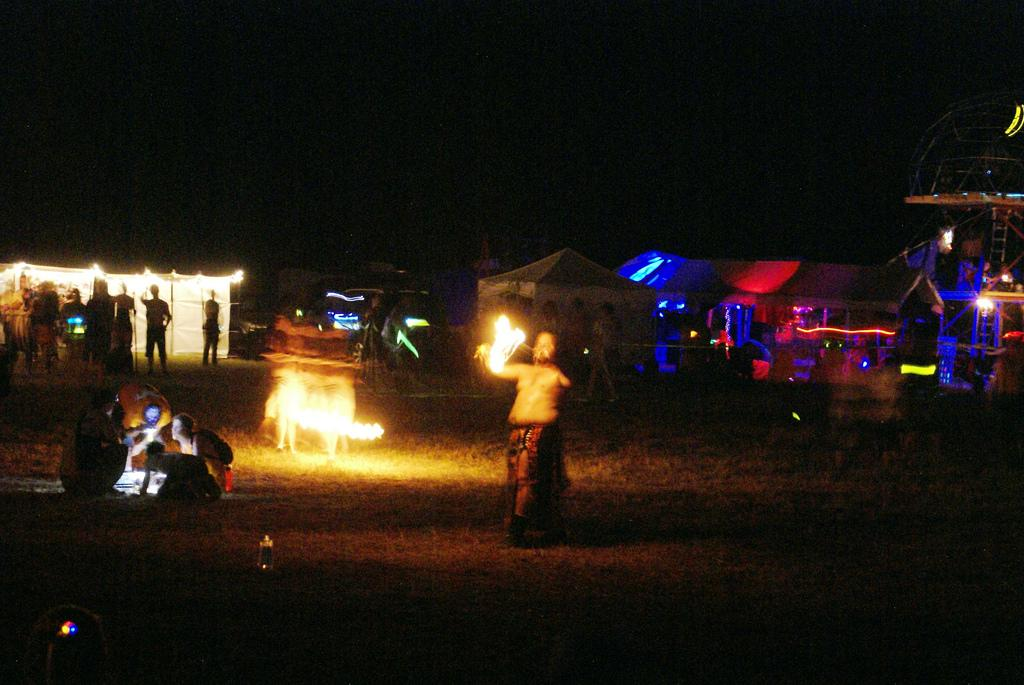fire: (270, 388, 365, 447), (490, 315, 522, 373)
